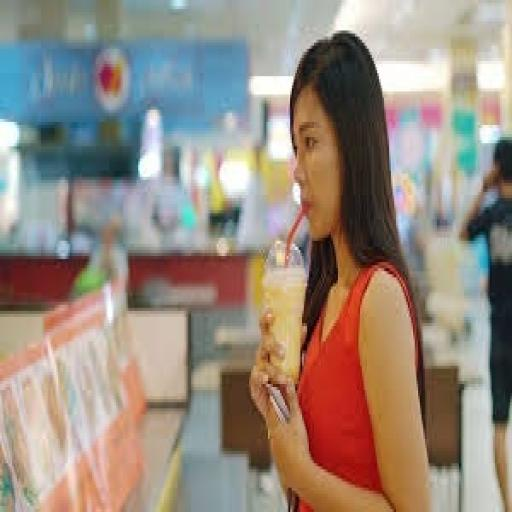drinking: (232, 33, 446, 418)
